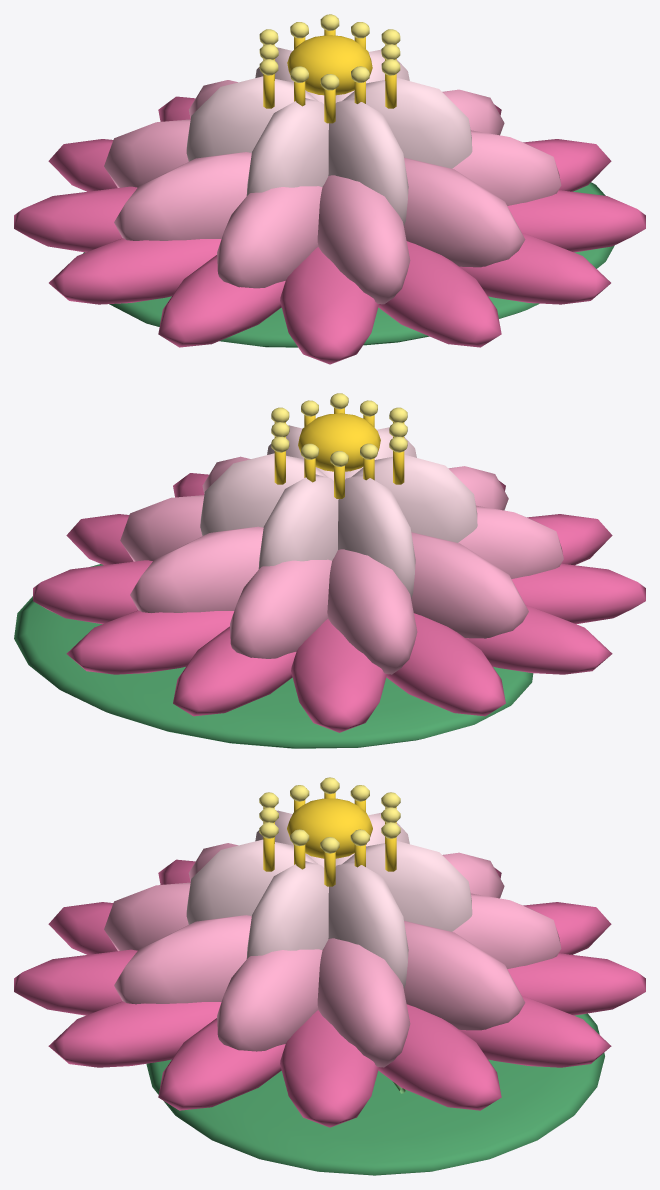
File: lotus.glb
The picture shows the model from 3 angles, top to bottom: view 1: azimuth 30°, elevation 25°; view 2: azimuth 150°, elevation 25°; view 3: azimuth 270°, elevation 25°; orthographic projection. The views are drawn at different scales.
Visible parts, largest first — view 1: lotus; view 2: lotus; view 3: lotus.
Part boxes in pixels (<box>): lotus: <box>14,14,645,364</box>; lotus: <box>14,393,645,748</box>; lotus: <box>14,777,645,1175</box>.
Bounding box in the file's own units: 1 × 0.4266 × 0.9741.
